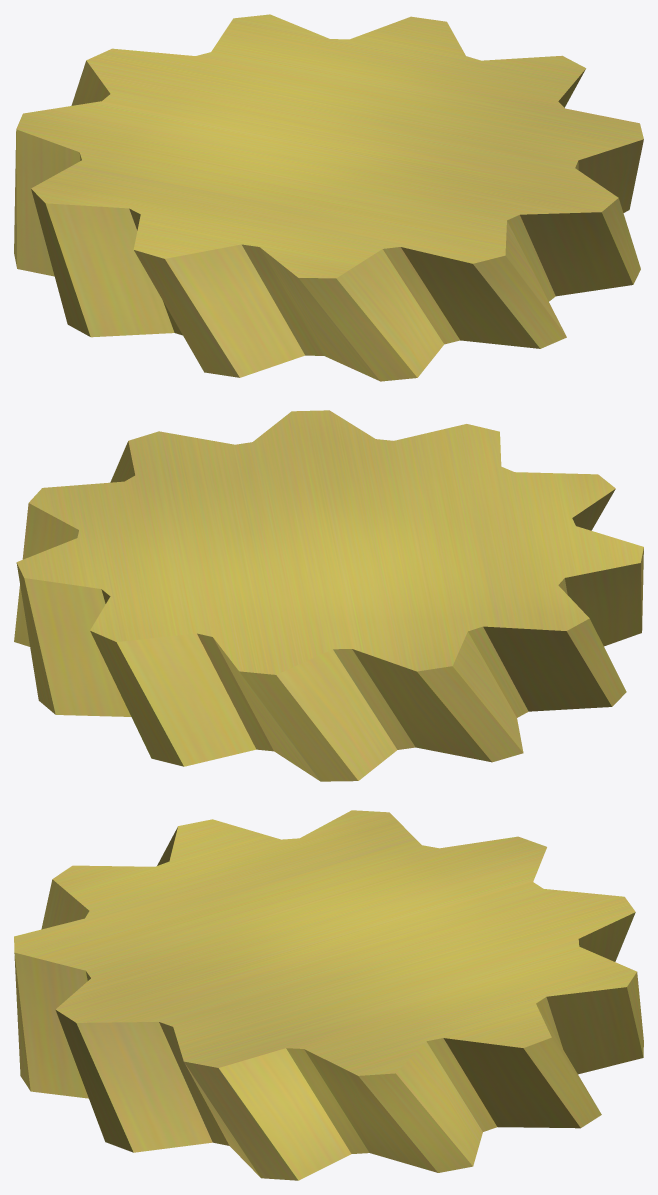
File: CogSpiral011.fbx
3 views of the same model, one above another, from view 1: azimuth 30°, elevation 25°; view 2: azimuth 150°, elevation 25°; view 3: azimuth 270°, elevation 25° (orthographic).
Visible parts, largest first — view 1: CogSpiral011; view 2: CogSpiral011; view 3: CogSpiral011.
Part boxes in pixels (x1,y1,x2,y2): CogSpiral011: [14, 14, 643, 381]; CogSpiral011: [14, 410, 643, 781]; CogSpiral011: [14, 810, 643, 1180].
Bounding box in the file's own units: 107 × 19.69 × 107.
